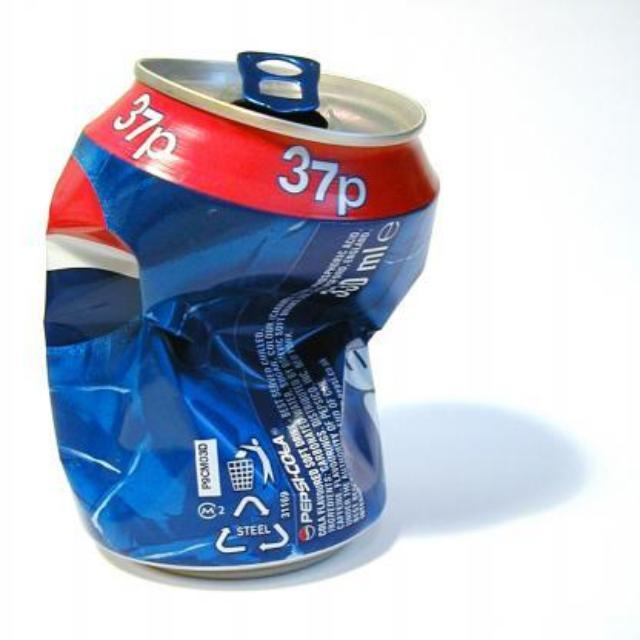metal: (43, 57, 435, 572)
